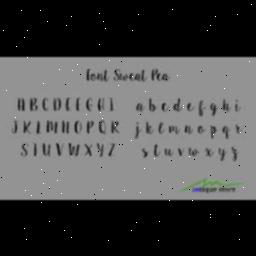i: (9, 115, 23, 137), (106, 96, 120, 116), (16, 95, 28, 115), (98, 120, 110, 136)
